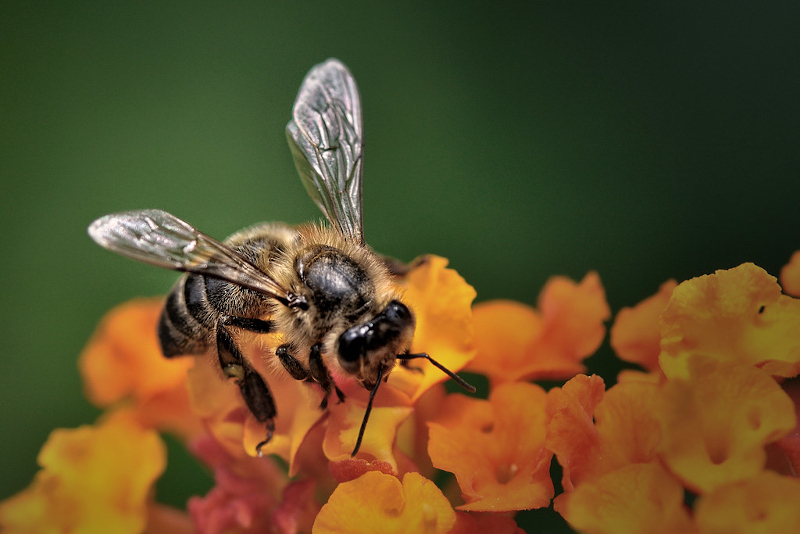abeja: (74, 40, 512, 449)
